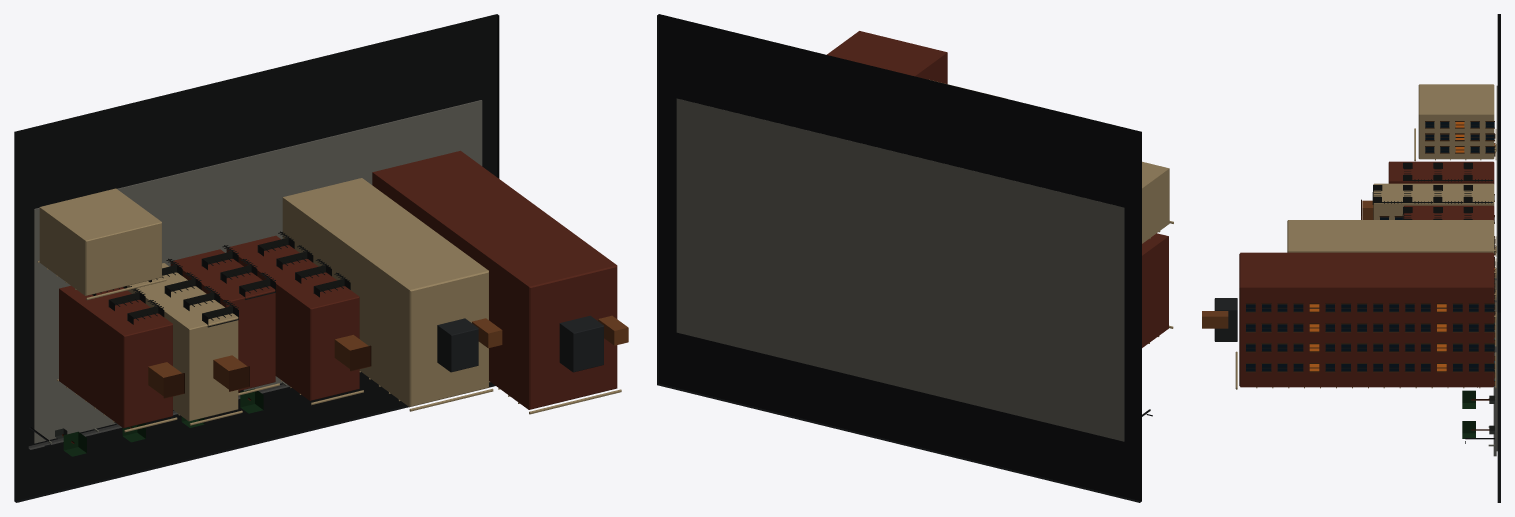
File: residential_neighborhood.obj
3 renders of one model, left to right at view 1: azimuth 30°, elevation 25°; view 2: azimuth 150°, elevation 25°; view 3: azimuth 270°, elevation 25°, orthographic. The views are drawn at different scales.
Size of the model in its own units: 82 by 60 by 54.4.
